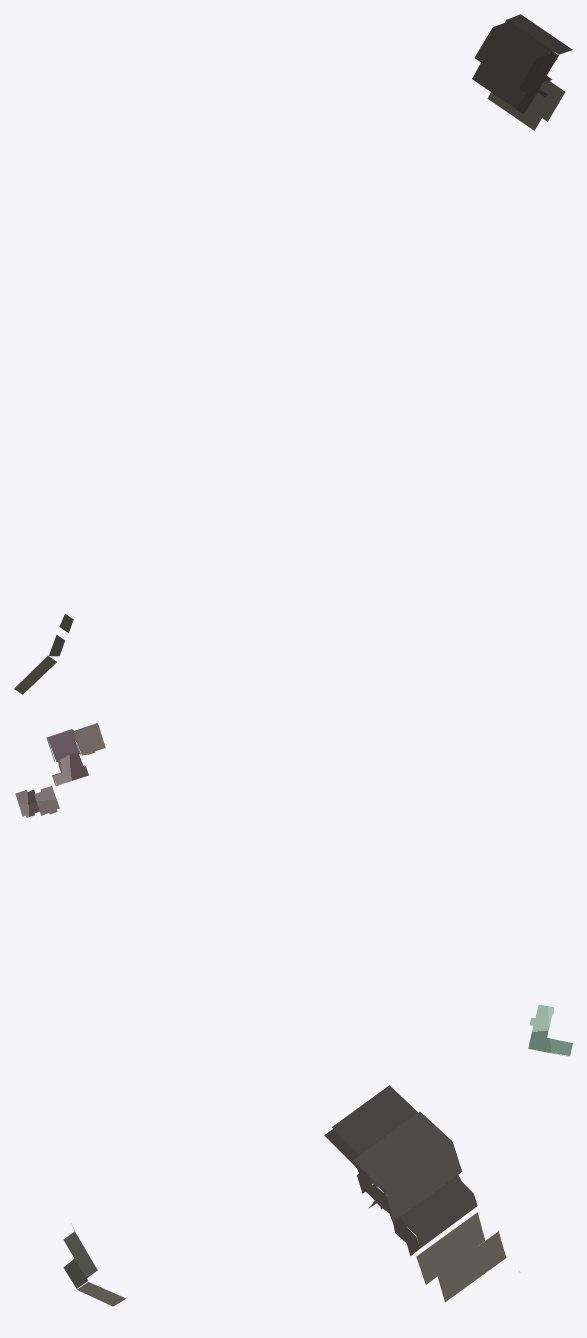
The model's file is tile_LOD3_r6_c0.glb.
3 renders of one model, top to bottom at view 1: azimuth 30°, elevation 25°; view 2: azimuth 150°, elevation 25°; view 3: azimuth 270°, elevation 25°, orthographic. The views are drawn at different scales.
Size of the model in its own units: 278 by 169 by 123.
Materials: 13 (9 with a texture image).
